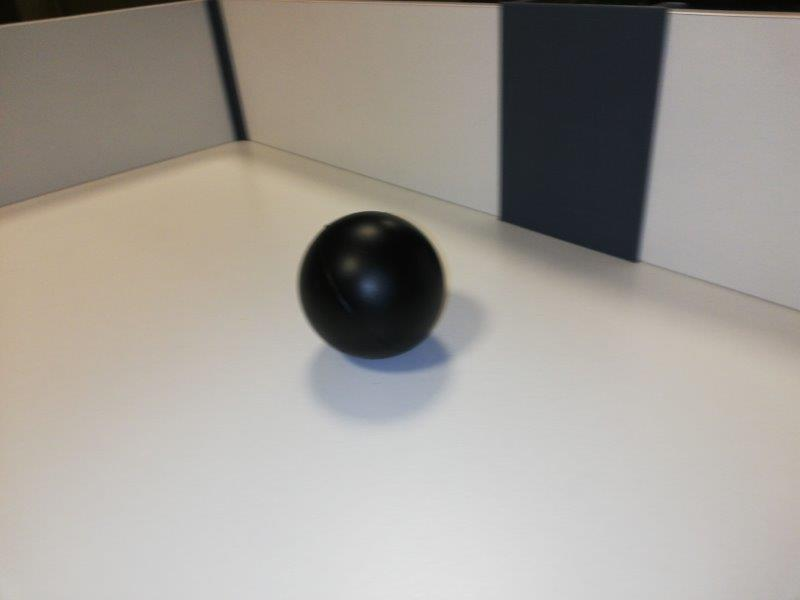nera: (296, 211, 446, 358)
